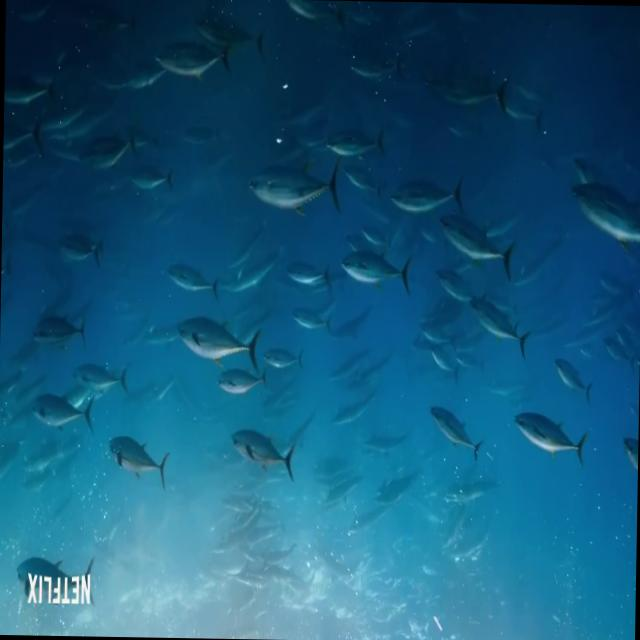fish: (160, 304, 275, 375), (11, 536, 98, 620), (240, 163, 352, 224), (223, 418, 300, 506), (563, 171, 640, 250), (434, 212, 517, 282), (507, 406, 592, 468), (334, 243, 418, 305), (389, 167, 469, 232), (151, 30, 240, 86), (103, 426, 173, 496), (427, 399, 489, 478), (470, 294, 540, 358), (422, 64, 515, 108), (192, 4, 267, 58), (66, 344, 131, 406), (4, 49, 59, 120), (316, 119, 392, 168), (21, 390, 95, 440), (549, 340, 597, 410), (80, 64, 160, 105), (24, 311, 90, 354), (46, 228, 110, 270), (156, 266, 218, 308), (130, 158, 190, 200), (208, 368, 271, 407), (2, 116, 48, 162), (278, 258, 330, 294)
